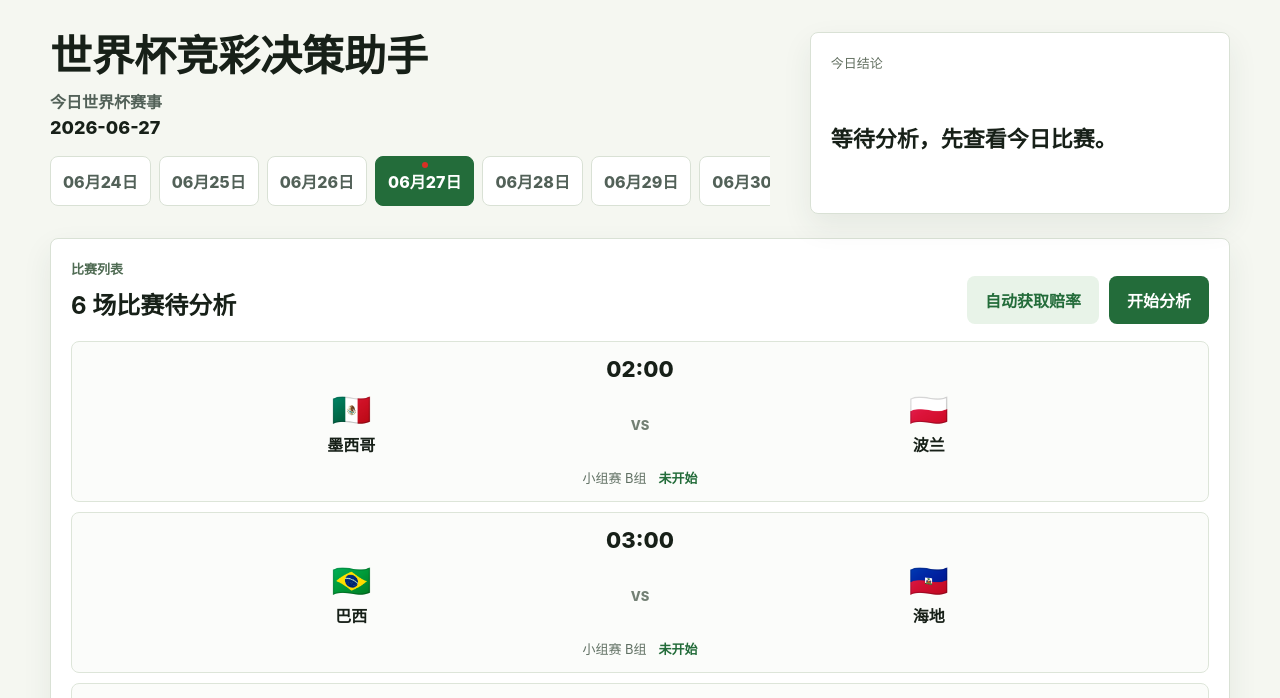
Test: App › switches match date without refreshing the page
Click the tab "06月28日" at (533, 181), box [482, 156, 583, 206]
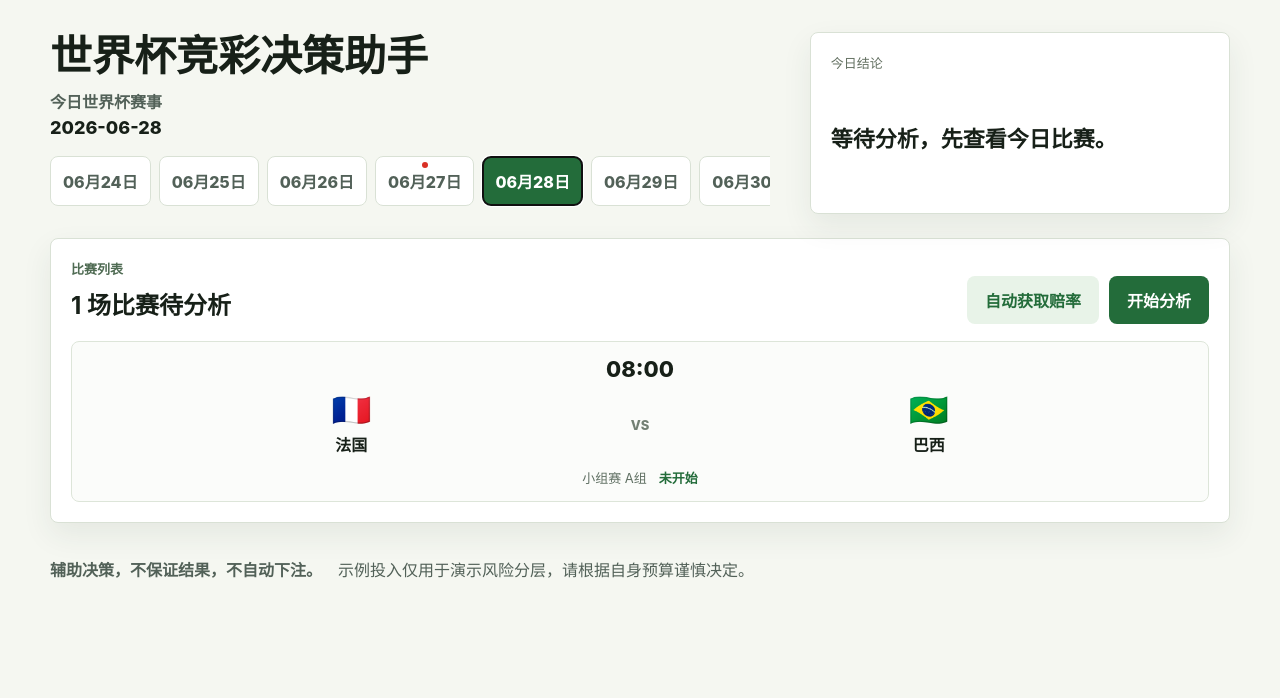
Now the text "法国" is shown, box [335, 432, 367, 456]
Now the text "🇫🇷" is shown, box [331, 394, 371, 426]
